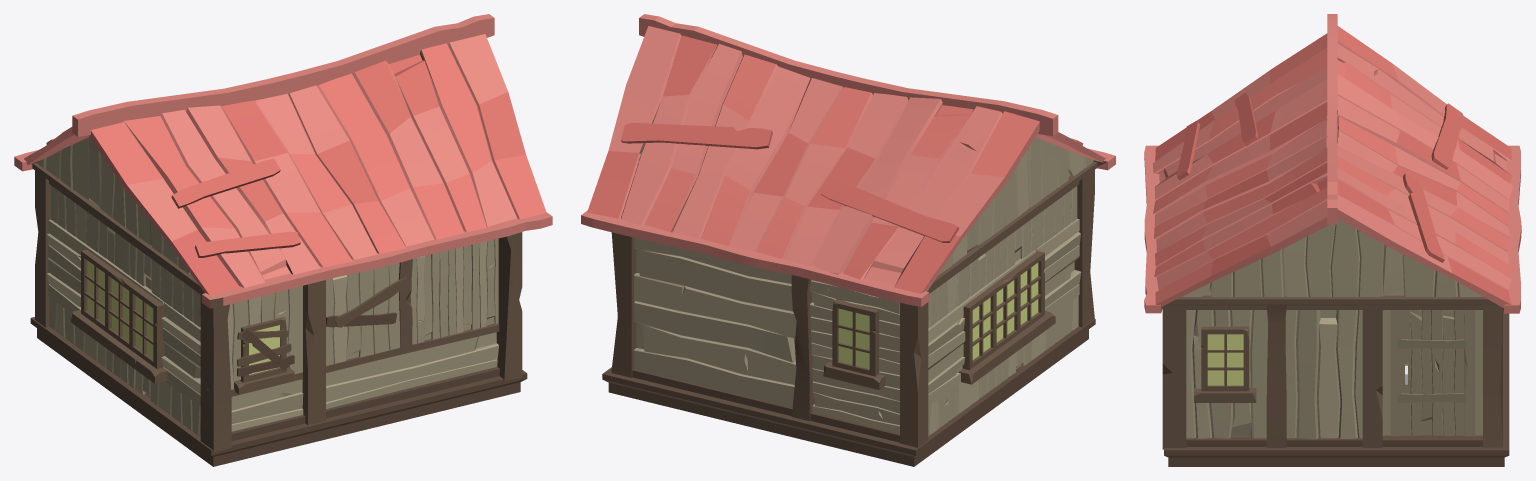
Rendered from redcoloringhouse1.fbx.
The picture shows the model from 3 angles, left to right: view 1: azimuth 30°, elevation 25°; view 2: azimuth 150°, elevation 25°; view 3: azimuth 270°, elevation 25°; orthographic projection. The views are drawn at different scales.
Parts seen in each view (by area): view 1: House_1_Roof.011, House.009; view 2: House_1_Roof.011, House.009; view 3: House_1_Roof.011, House.009.
Part boxes in pixels (box(x1,y1,x2,y2)): House_1_Roof.011: box(14, 14, 552, 308); House.009: box(30, 170, 527, 466); House_1_Roof.011: box(581, 14, 1115, 306); House.009: box(602, 170, 1095, 466); House_1_Roof.011: box(1144, 14, 1521, 313); House.009: box(1162, 304, 1509, 466).
Bounding box in the file's own units: 573 × 395 × 471.
